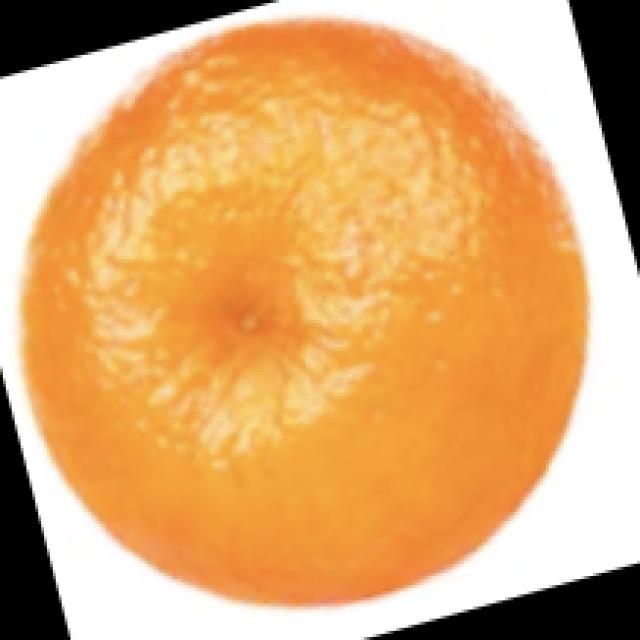Orange: (17, 15, 590, 607)
